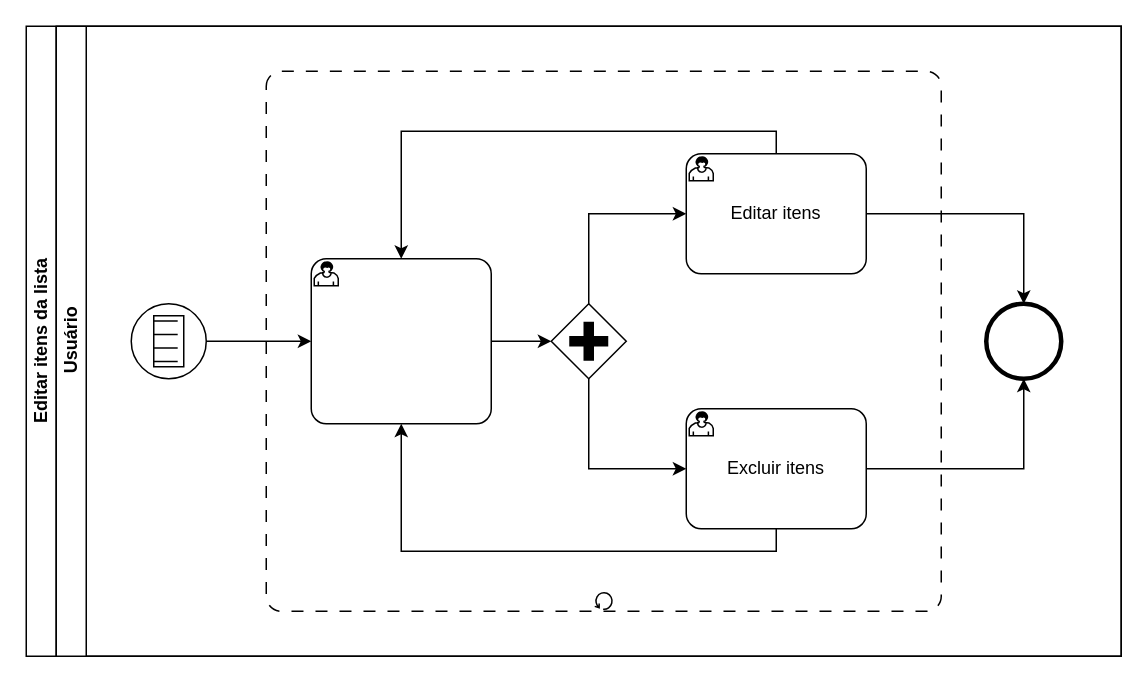
Image size: 1148x683. Some labels were removed from this diagram. The centre of each missing label's shape, as x and y in pixels:
Escolher item para editar nome, categoria, quantidade, preço ou excluir: (400,340)
O usuário tem uma lista criada: (168,340)
